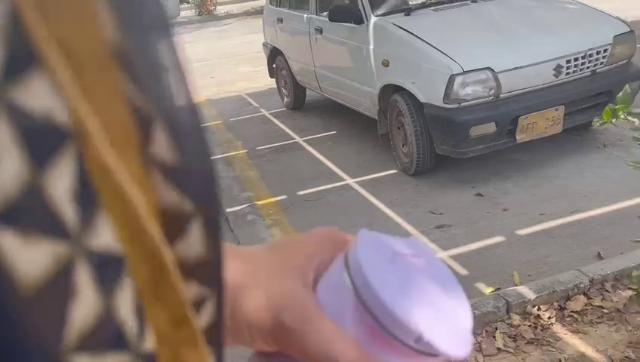plate: (512, 105, 578, 141)
